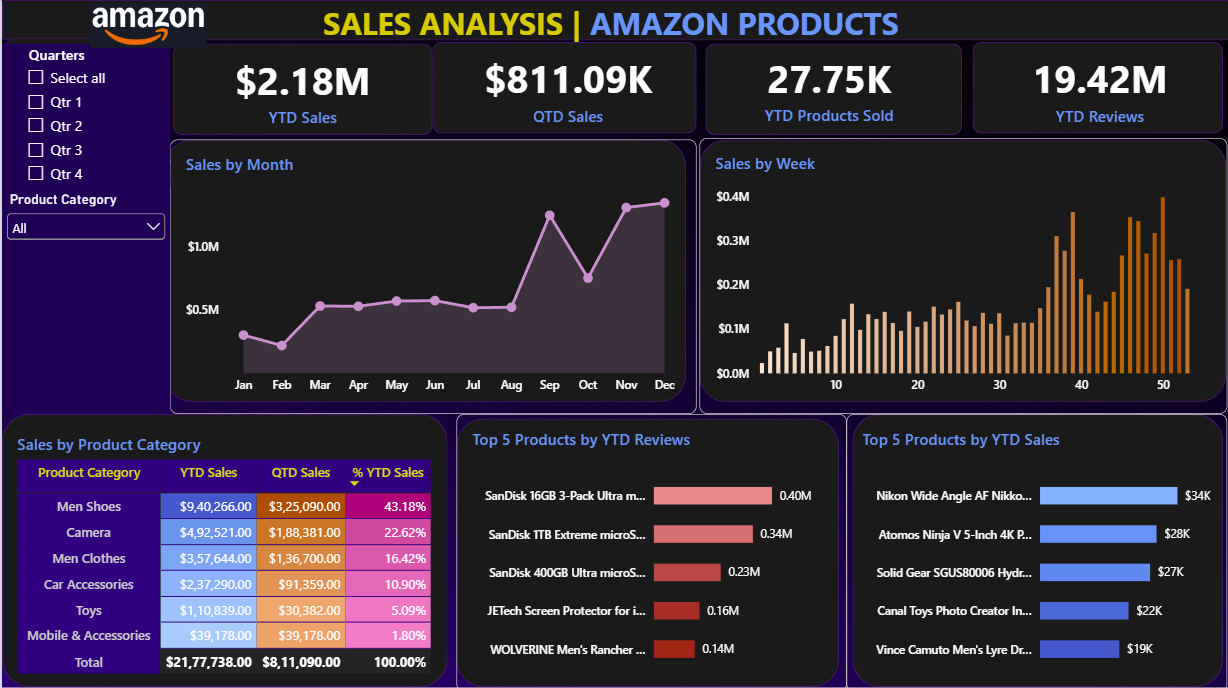

The dashboard page shown, as its layout file describes it:
{"tool":"powerbi","page":{"name":"Page 1","canvas":[1280,720],"ordinal":0},"visuals":[{"type":"shape","box":[0,0,1280.1,42.2],"z":0},{"type":"textbox","box":[334.5,1.6,609.6,48.5],"z":1000},{"type":"shape","box":[0,39.1,173.5,392.3],"z":2000},{"type":"shape","box":[178.2,45.8,270.4,95.3],"z":3000},{"type":"card","fields":{"Values":["Amazon_Data.YTD Sales"]},"box":[173.5,42.2,279.8,103.2],"z":4000},{"type":"shape","box":[448.6,44.3,275.1,95.3],"z":5000},{"type":"shape","box":[733,45.8,267.3,95.3],"z":6000},{"type":"card","fields":{"Values":["Amazon_Data.YTD Products Sold"]},"box":[723.7,40.6,276.6,103.2],"z":7000},{"type":"shape","box":[1011.3,44.3,261,95.3],"z":8000},{"type":"card","fields":{"Values":["Amazon_Data.QTD Sales"]},"box":[452.7,41.7,273.5,101.6],"z":9000},{"type":"card","fields":{"Values":["Amazon_Data.YTD Reviews"]},"box":[1011.3,42.2,265.7,101.6],"z":10000},{"type":"shape","box":[170.4,145.4,542.4,273.5],"z":11000},{"type":"areaChart","title":"Sales by Month","fields":{"Category":["Date Table.Month Name"],"Y":["Sum(Amazon_Data.Price(Dollar))"]},"box":[175.1,145.4,548.6,286],"z":12000},{"type":"shape","box":[0,431.4,464.2,284.5],"z":13000},{"type":"shape","box":[726.8,145.4,548.6,273.5],"z":14000},{"type":"columnChart","title":"Sales by Week","fields":{"Category":["Date Table.Week"],"Y":["Sum(Amazon_Data.Price(Dollar))"]},"box":[726.8,143.8,550.2,287.6],"z":15000},{"type":"shape","box":[886.2,431.4,386.1,284.5],"z":16000},{"type":"shape","box":[473.6,436.1,398.6,279.8],"z":17000},{"type":"pivotTable","title":"Sales by Product Category","fields":{"Rows":["Amazon_Data.Product Category"],"Values":["Amazon_Data.YTD Sales","Amazon_Data.QTD Sales","Divide(Amazon_Data.YTD Sales, ScopedEval(Amazon_Data.YTD Sales, []))"]},"box":[0,431.4,473.6,289.2],"z":18000},{"type":"clusteredBarChart","title":"Top 5 Products by YTD Sales","fields":{"Category":["Amazon_Data.Product Description"],"Y":["Amazon_Data.YTD Sales"]},"box":[880,431.4,397,289.2],"z":19000},{"type":"clusteredBarChart","title":"Top 5 Products by YTD Reviews","fields":{"Category":["Amazon_Data.Product Description"],"Y":["Amazon_Data.YTD Reviews"]},"box":[473.6,431.4,406.4,289.2],"z":20000},{"type":"slicer","fields":{"Values":["Amazon_Data.Product Category"]},"box":[0,189.1,175.1,242.3],"z":21000},{"type":"slicer","fields":{"Values":["Date Table.Quarter"]},"box":[0,45.3,175.1,150],"z":22000},{"type":"image","box":[71.9,3.1,161,46.9],"z":22001}]}

Visuals, with their boxes in screenshot pixels (x1, y1, x2, y2), scaled from the page's 1280x720 canvas onto the 1228x688 screenshot:
shape: (0, 0, 1227, 40)
textbox: (321, 2, 906, 48)
shape: (0, 37, 166, 412)
shape: (171, 44, 430, 135)
card - Amazon_Data.YTD Sales: (166, 40, 435, 139)
shape: (430, 42, 694, 133)
shape: (703, 44, 960, 135)
card - Amazon_Data.YTD Products Sold: (694, 39, 960, 137)
shape: (970, 42, 1221, 133)
card - Amazon_Data.QTD Sales: (434, 40, 697, 137)
card - Amazon_Data.YTD Reviews: (970, 40, 1225, 137)
shape: (163, 139, 684, 400)
"Sales by Month" areaChart: (168, 139, 694, 412)
shape: (0, 412, 445, 684)
shape: (697, 139, 1224, 400)
"Sales by Week" columnChart: (697, 137, 1225, 412)
shape: (850, 412, 1221, 684)
shape: (454, 417, 837, 684)
"Sales by Product Category" pivotTable: (0, 412, 454, 687)
"Top 5 Products by YTD Sales" clusteredBarChart: (844, 412, 1225, 687)
"Top 5 Products by YTD Reviews" clusteredBarChart: (454, 412, 844, 687)
slicer - Amazon_Data.Product Category: (0, 181, 168, 412)
slicer - Date Table.Quarter: (0, 43, 168, 187)
image: (69, 3, 223, 48)
